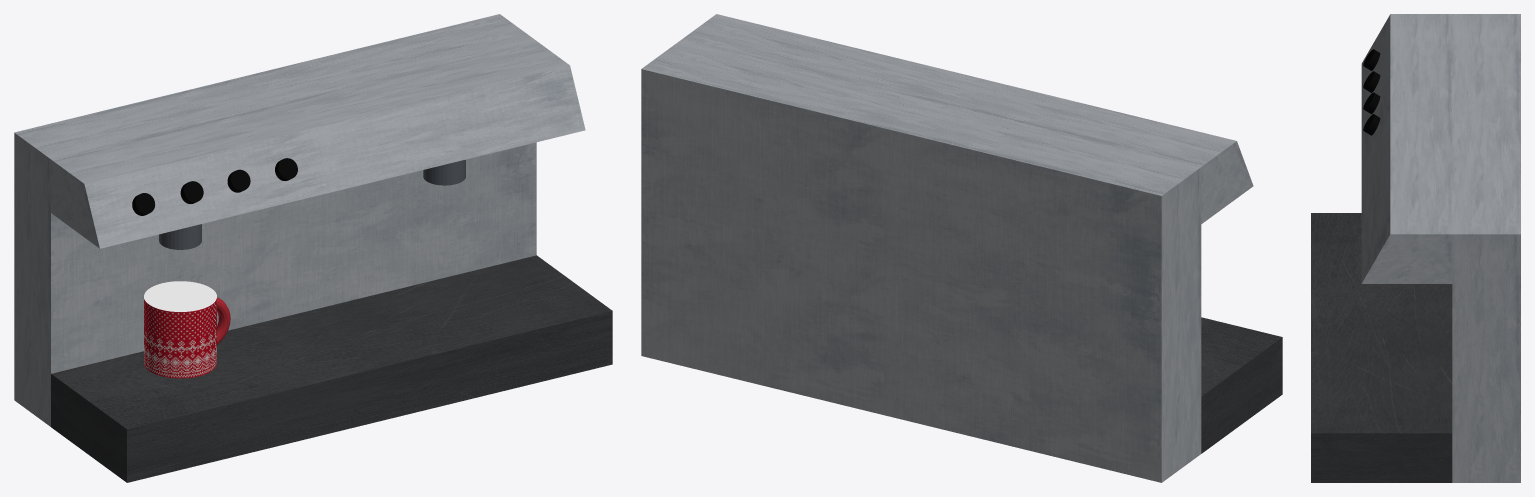
Rendered from coffee_machine.glb.
The picture shows the model from 3 angles, left to right: view 1: azimuth 30°, elevation 25°; view 2: azimuth 150°, elevation 25°; view 3: azimuth 270°, elevation 25°; orthographic projection. The views are drawn at different scales.
Parts seen in each view (by area): view 1: Coffee Machine Back, Coffee Machine Bottom, Coffee Machine Top, Coffee Cup, Coffee Machine Block.002, Coffee Machine Block.001; view 2: Coffee Machine Back, Coffee Machine Top, Coffee Machine Bottom; view 3: Coffee Machine Back, Coffee Machine Bottom, Coffee Machine Top, Coffee Machine Button.003, Coffee Machine Button.004, Coffee Machine Button.001, Coffee Machine Button.002.
Boxes of the visible parts, left/top/right/bottom form: Coffee Machine Back: left=14, top=14, right=536, bottom=426; Coffee Machine Bottom: left=51, top=255, right=612, bottom=482; Coffee Machine Top: left=51, top=41, right=585, bottom=248; Coffee Cup: left=144, top=281, right=216, bottom=378; Coffee Machine Block.002: left=423, top=159, right=465, bottom=185; Coffee Machine Block.001: left=159, top=224, right=201, bottom=249; Coffee Machine Back: left=641, top=40, right=1201, bottom=482; Coffee Machine Top: left=681, top=14, right=1253, bottom=223; Coffee Machine Bottom: left=1201, top=317, right=1282, bottom=453; Coffee Machine Back: left=1452, top=14, right=1520, bottom=482; Coffee Machine Bottom: left=1311, top=213, right=1452, bottom=482; Coffee Machine Top: left=1361, top=14, right=1452, bottom=283; Coffee Machine Button.003: left=1363, top=92, right=1380, bottom=114; Coffee Machine Button.004: left=1363, top=114, right=1380, bottom=135; Coffee Machine Button.001: left=1363, top=49, right=1380, bottom=70; Coffee Machine Button.002: left=1363, top=71, right=1380, bottom=92.
Bounding box in the file's own units: 1.5 × 0.788 × 0.6022.
9 materials, 4 textured.
